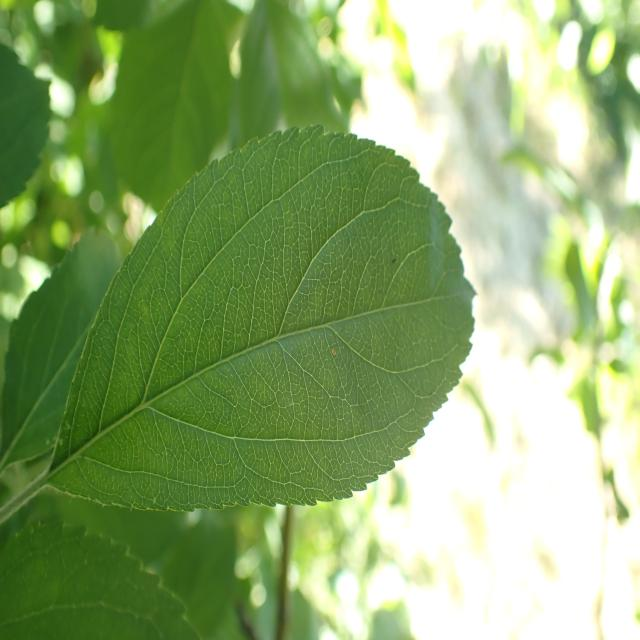healthy: (50, 122, 479, 514), (1, 226, 123, 465), (0, 516, 201, 639), (0, 42, 52, 208)
